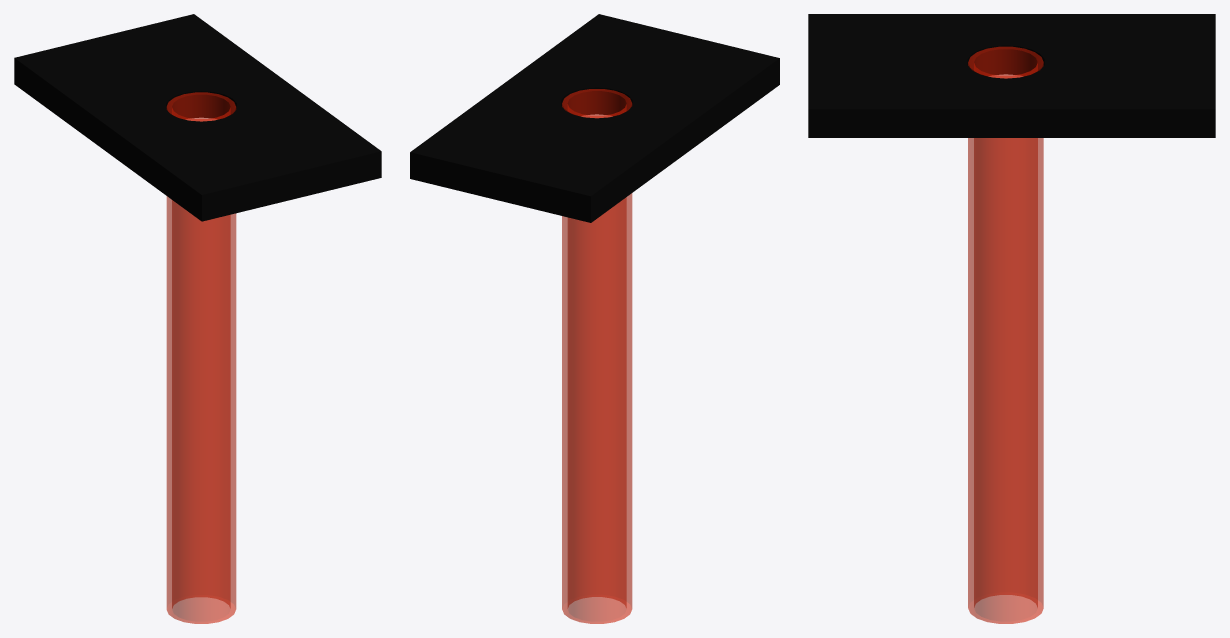
File: StartPlataformTube.FBX
3 renders of one model, left to right at view 1: azimuth 30°, elevation 25°; view 2: azimuth 150°, elevation 25°; view 3: azimuth 270°, elevation 25°, orthographic. The views are drawn at different scales.
Visible parts, largest first — view 1: Box001, Tube002; view 2: Box001, Tube002; view 3: Box001, Tube002.
Part boxes in pixels (x1,y1,x2,y2): Box001: (14,14,381,221); Tube002: (166,92,236,623); Box001: (410,14,779,222); Tube002: (562,89,632,623); Box001: (808,14,1215,137); Tube002: (968,46,1043,623).
Bounding box in the file's own units: 43.88 × 117 × 79.32.
